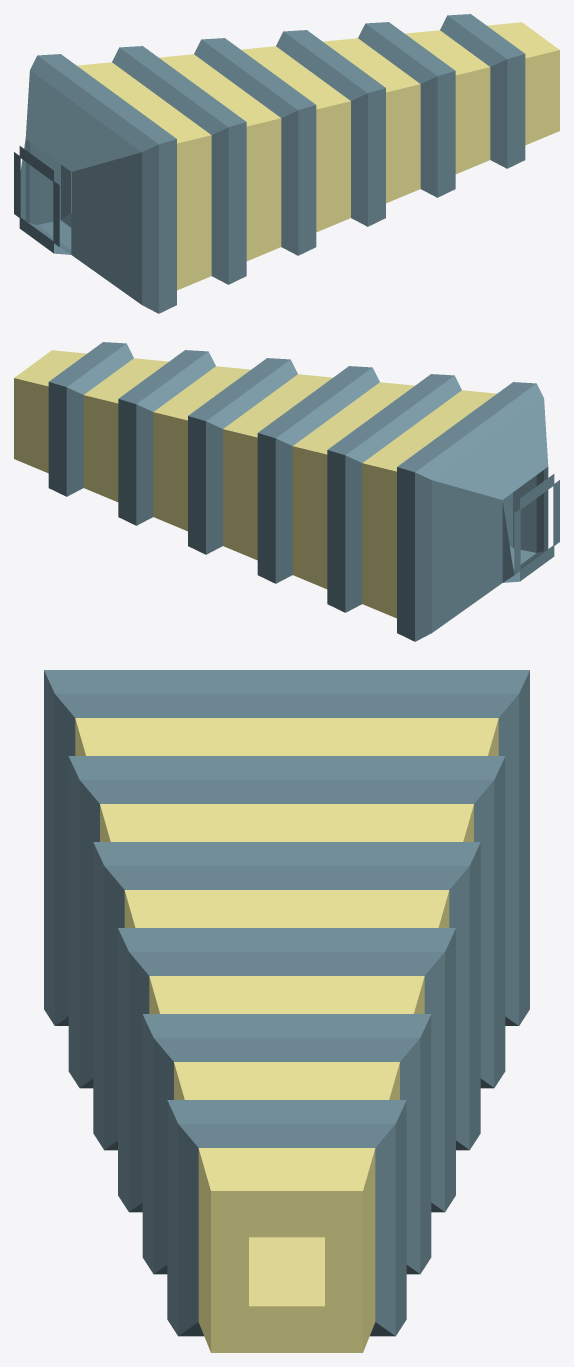
The model's file is laser.glb.
3 renders of one model, top to bottom at view 1: azimuth 30°, elevation 25°; view 2: azimuth 150°, elevation 25°; view 3: azimuth 270°, elevation 25°, orthographic. The views are drawn at different scales.
Visible parts, largest first — view 1: Laser; view 2: Laser; view 3: Laser.
Part boxes in pixels (x1=…): Laser: x1=14, y1=14, x2=559, y2=313; Laser: x1=14, y1=342, x2=559, y2=641; Laser: x1=44, y1=670, x2=529, y2=1352.
Size of the model in its own units: 2.61 by 0.8396 by 1.09.
1 material, 1 textured.
